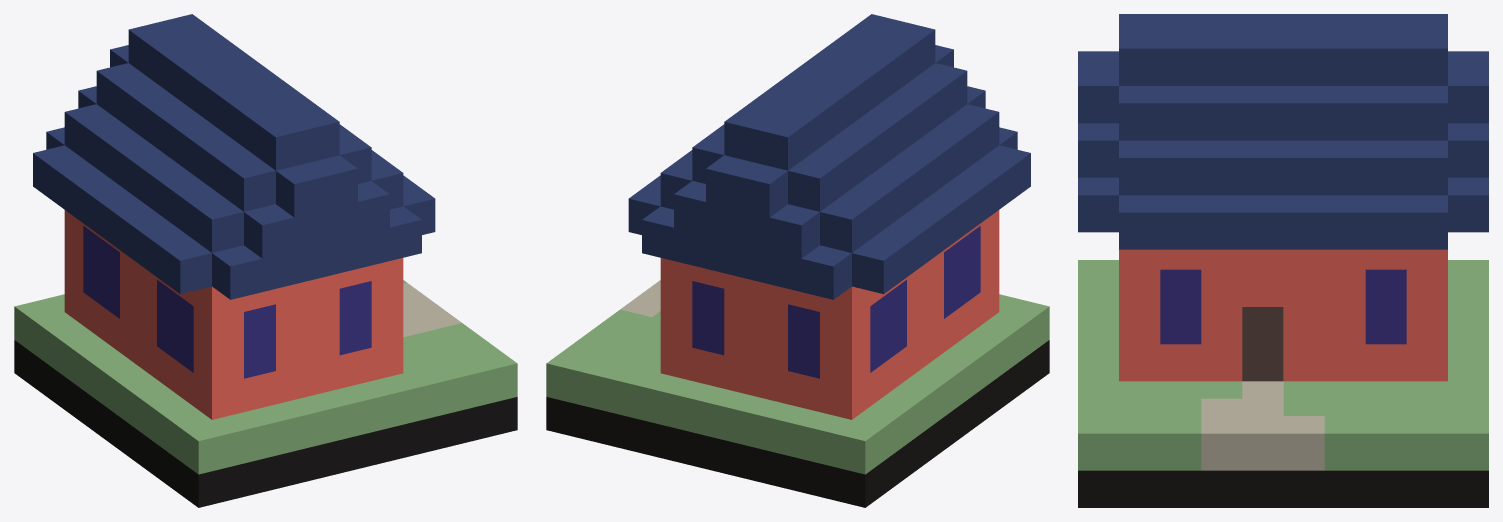
The model's file is building3.obj.
3 views of the same model, side by side, from view 1: azimuth 30°, elevation 25°; view 2: azimuth 150°, elevation 25°; view 3: azimuth 270°, elevation 25° (orthographic). The views are drawn at different scales.
Bounding box in the file's own units: 1 × 1 × 1.
1 material, 1 textured.
